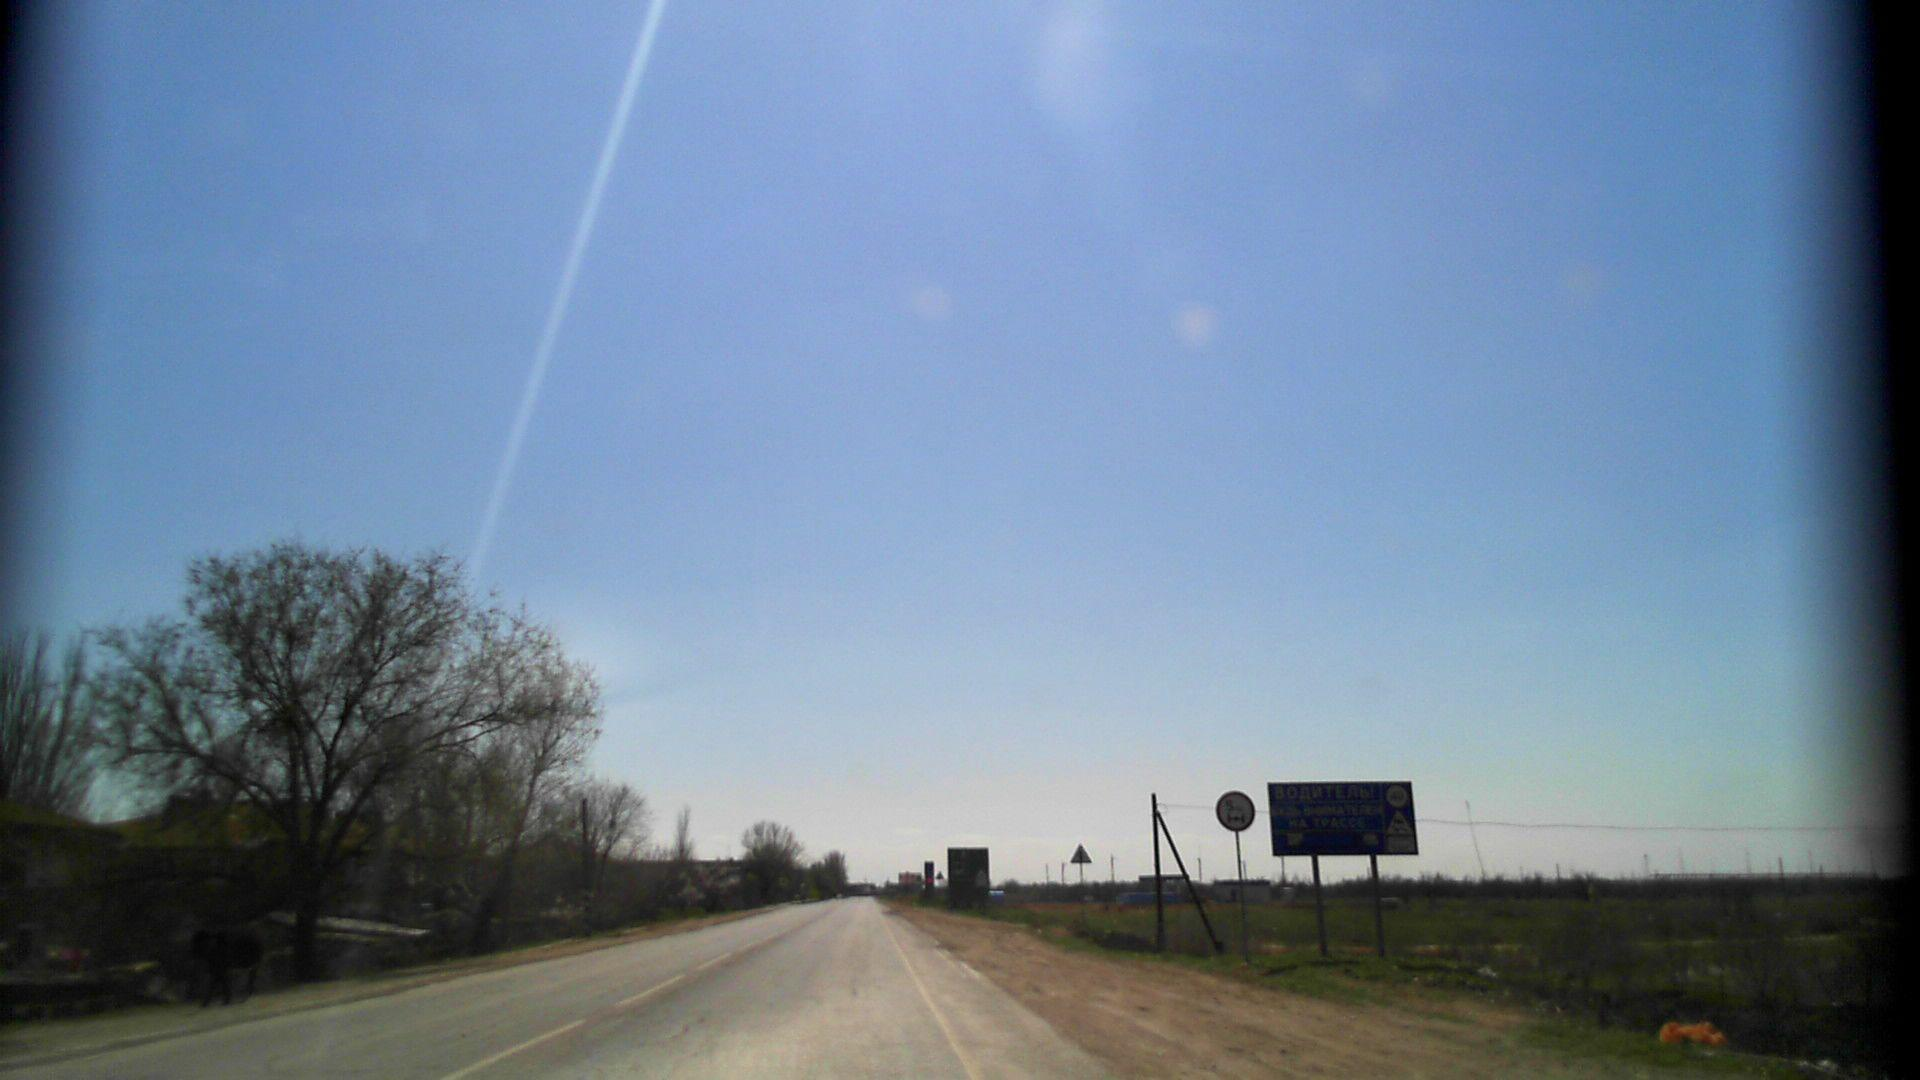3_12: (1216, 789, 1258, 833)
